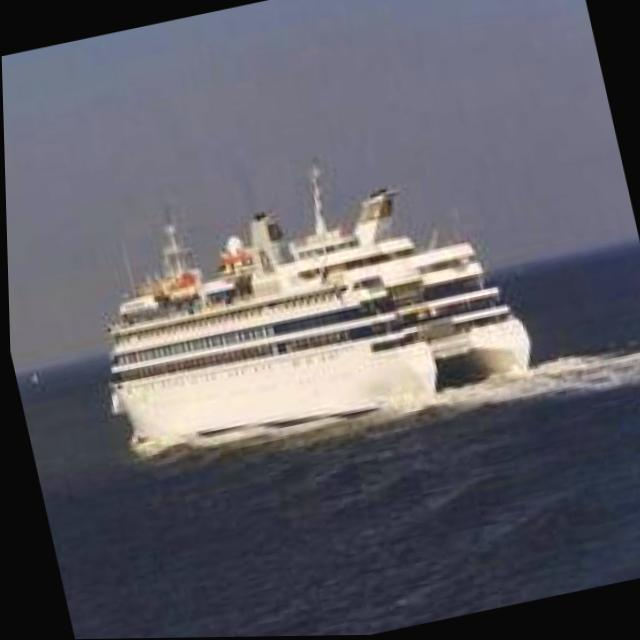ship2: (106, 173, 531, 449)
